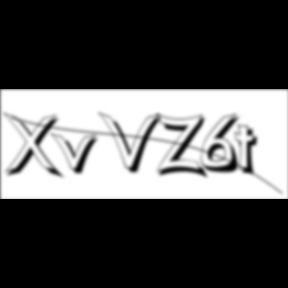6: (202, 112, 246, 176)
V: (98, 110, 166, 176)
X: (2, 112, 66, 182)
Z: (156, 112, 212, 181)
t: (234, 124, 266, 179)
v: (51, 131, 105, 177)
